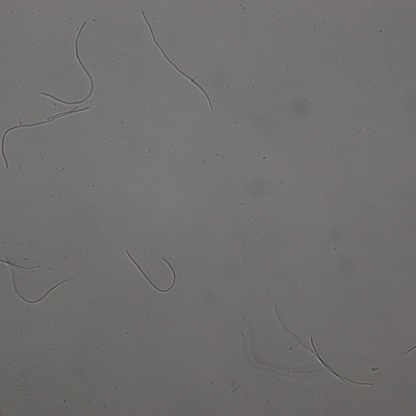Sensitive: (276, 309, 373, 386), (142, 12, 214, 110), (1, 107, 90, 167), (40, 21, 94, 106), (1, 257, 73, 304), (126, 250, 176, 292)
